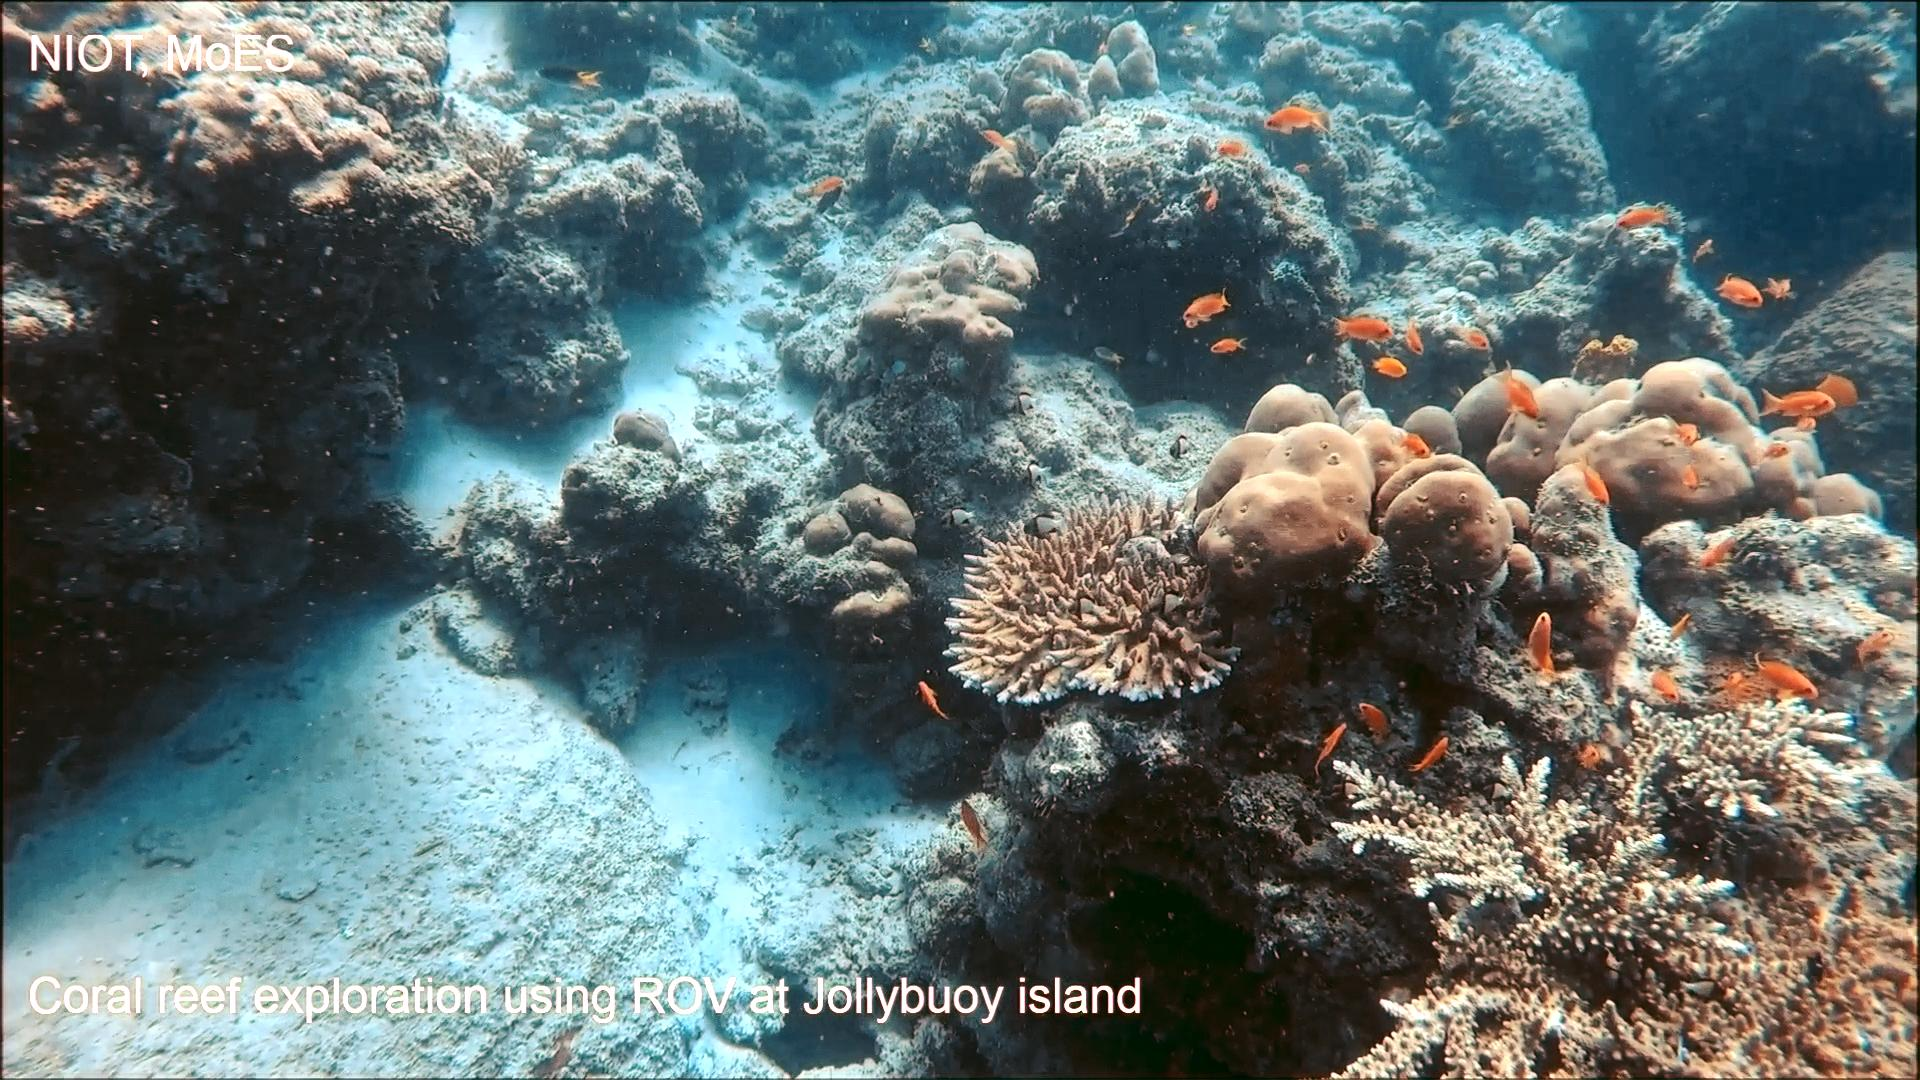Porites-Porites pukoensis: (1470, 334, 1895, 526), (1184, 377, 1523, 604)
